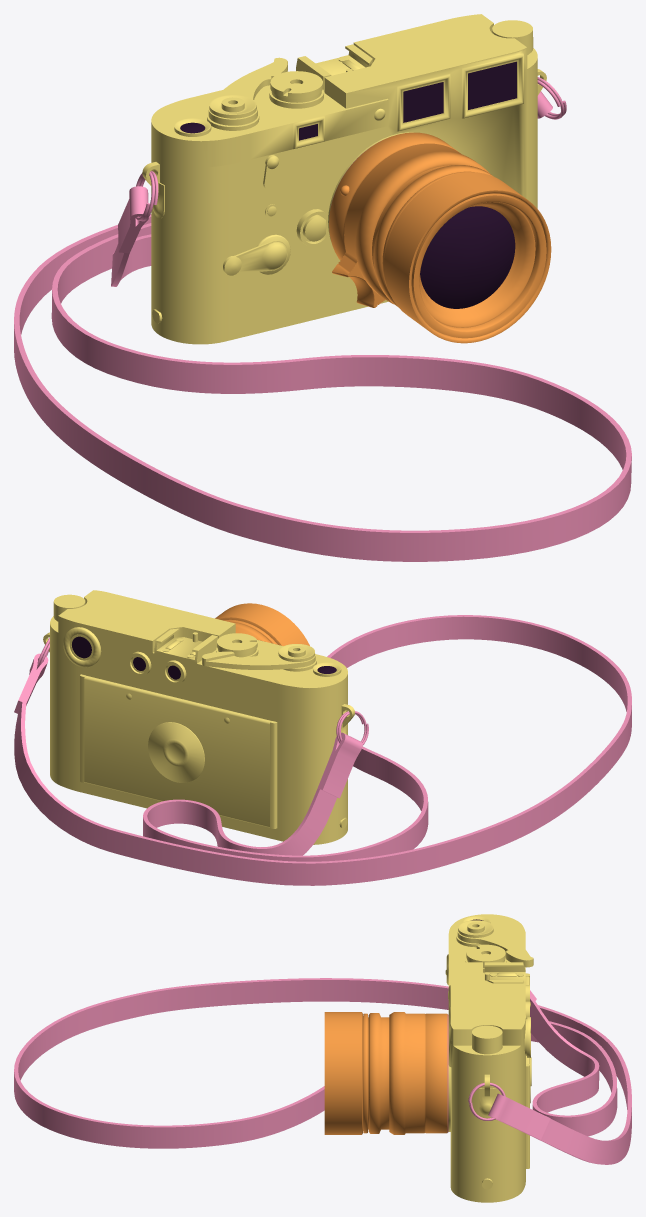
The model's file is clay-camera.glb.
3 renders of one model, top to bottom at view 1: azimuth 30°, elevation 25°; view 2: azimuth 150°, elevation 25°; view 3: azimuth 270°, elevation 25°, orthographic. The views are drawn at different scales.
Parts seen in each view (by area): view 1: Camera_01, Camera_01_strap; view 2: Camera_01, Camera_01_strap; view 3: Camera_01, Camera_01_strap.
Boxes of the visible parts, left/top/right/bottom form: Camera_01: left=142, top=14, right=551, bottom=344; Camera_01_strap: left=14, top=77, right=631, bottom=561; Camera_01: left=43, top=590, right=354, bottom=844; Camera_01_strap: left=14, top=615, right=631, bottom=885; Camera_01: left=324, top=914, right=533, bottom=1202; Camera_01_strap: left=14, top=978, right=631, bottom=1164.
Size of the model in its own units: 0.2139 by 0.0778 by 0.2628.
